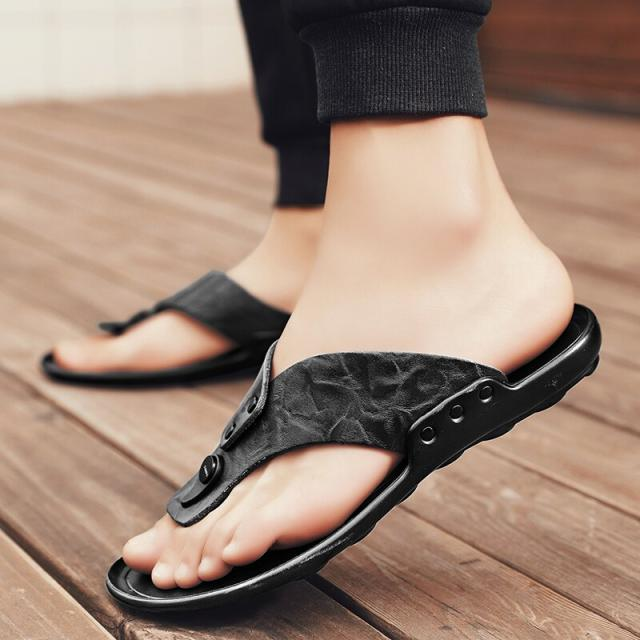Sandals: (98, 173, 608, 619)
